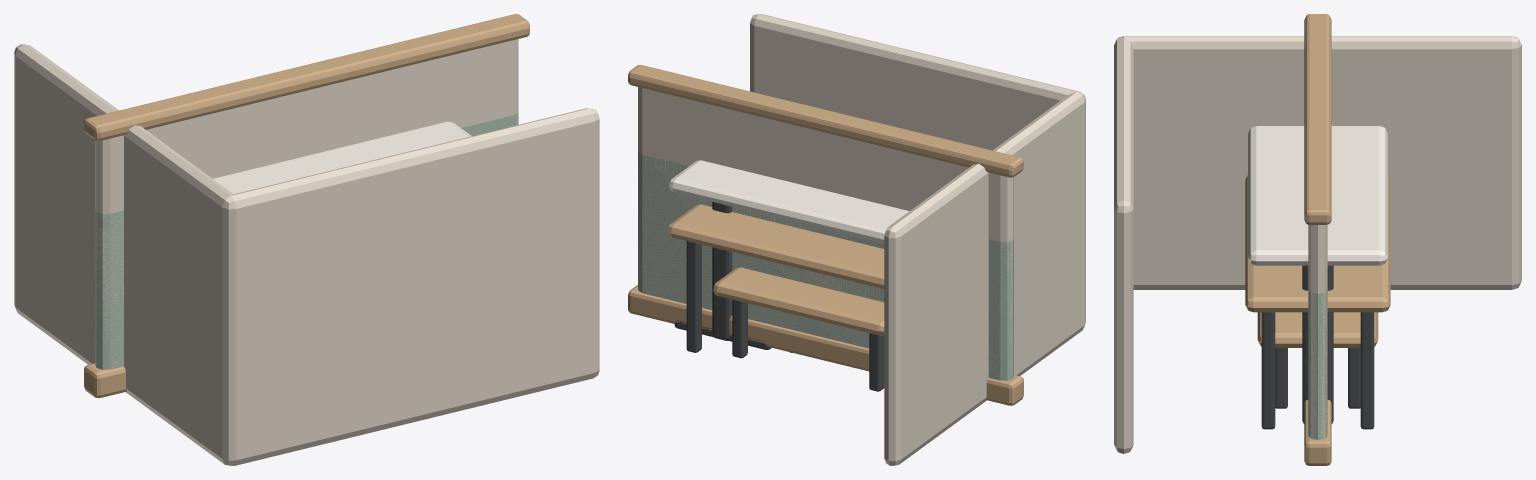
Rendered from foundation.glb.
3 renders of one model, left to right at view 1: azimuth 30°, elevation 25°; view 2: azimuth 150°, elevation 25°; view 3: azimuth 270°, elevation 25°, orthographic. The views are drawn at different scales.
Visible parts, largest first — view 1: HF_CubiclePanel_Corner, HF_CubiclePanel_Straight, HF_CubiclePanel_GlassTop, HF_Desk_Standing; view 2: HF_CubiclePanel_Corner, HF_CubiclePanel_Straight, HF_CubiclePanel_GlassTop, HF_Desk_Standing, HF_Desk_Classic, HF_Table_Coffee; view 3: HF_CubiclePanel_Corner, HF_Desk_Standing, HF_Desk_Classic, HF_CubiclePanel_GlassTop, HF_CubiclePanel_Straight, HF_Table_Coffee.
Part boxes in pixels (x1=…): HF_CubiclePanel_Corner: x1=14, y1=44, x2=599, y2=465; HF_CubiclePanel_Straight: x1=84, y1=24, x2=529, y2=398; HF_CubiclePanel_GlassTop: x1=84, y1=14, x2=529, y2=369; HF_Desk_Standing: x1=213, y1=121, x2=471, y2=193; HF_CubiclePanel_Corner: x1=750, y1=14, x2=1085, y2=465; HF_CubiclePanel_Straight: x1=628, y1=74, x2=1023, y2=405; HF_CubiclePanel_GlassTop: x1=628, y1=65, x2=1023, y2=380; HF_Desk_Standing: x1=669, y1=160, x2=909, y2=349; HF_Desk_Classic: x1=667, y1=204, x2=884, y2=352; HF_Table_Coffee: x1=713, y1=267, x2=884, y2=391; HF_CubiclePanel_Corner: x1=1114, y1=36, x2=1521, y2=453; HF_Desk_Standing: x1=1248, y1=126, x2=1387, y2=423; HF_Desk_Classic: x1=1245, y1=175, x2=1390, y2=429; HF_CubiclePanel_GlassTop: x1=1305, y1=14, x2=1330, y2=439; HF_CubiclePanel_Straight: x1=1304, y1=17, x2=1331, y2=465; HF_Table_Coffee: x1=1257, y1=312, x2=1378, y2=408.
Size of the model in its own units: 2.43 by 1.48 by 2.1.
